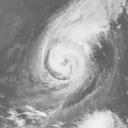cyclone: (35, 36, 93, 96)
